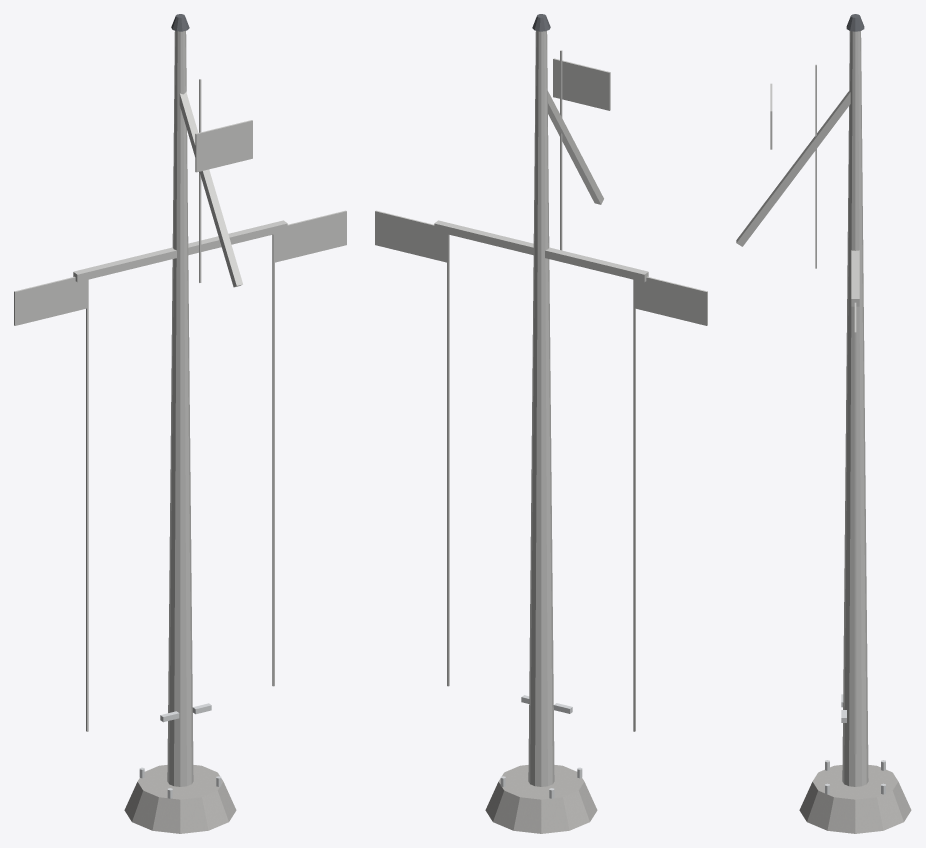
File: marina-and-yacht-club-marina-and-yacht-club-flag-mast-3cd1cfa1__38323.glb
3 renders of one model, left to right at view 1: azimuth 30°, elevation 25°; view 2: azimuth 150°, elevation 25°; view 3: azimuth 270°, elevation 25°, orthographic.
Visible parts, largest first — view 1: marina-and-yacht-club-flag-mast; view 2: marina-and-yacht-club-flag-mast; view 3: marina-and-yacht-club-flag-mast.
Part boxes in pixels (x1,y1,x2,y2): marina-and-yacht-club-flag-mast: [14, 14, 346, 833]; marina-and-yacht-club-flag-mast: [375, 14, 707, 833]; marina-and-yacht-club-flag-mast: [736, 14, 911, 833].
Size of the model in its own units: 4.1 by 9.38 by 1.87.
4 materials, 1 textured.
